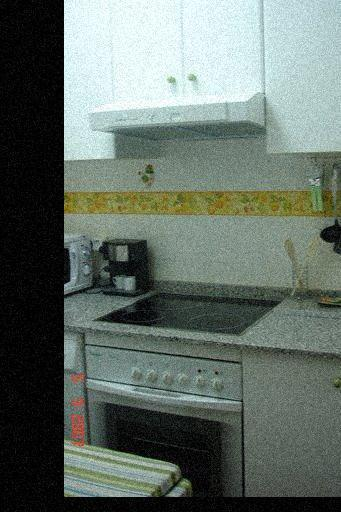Electrodomestico: (84, 287, 249, 483)
